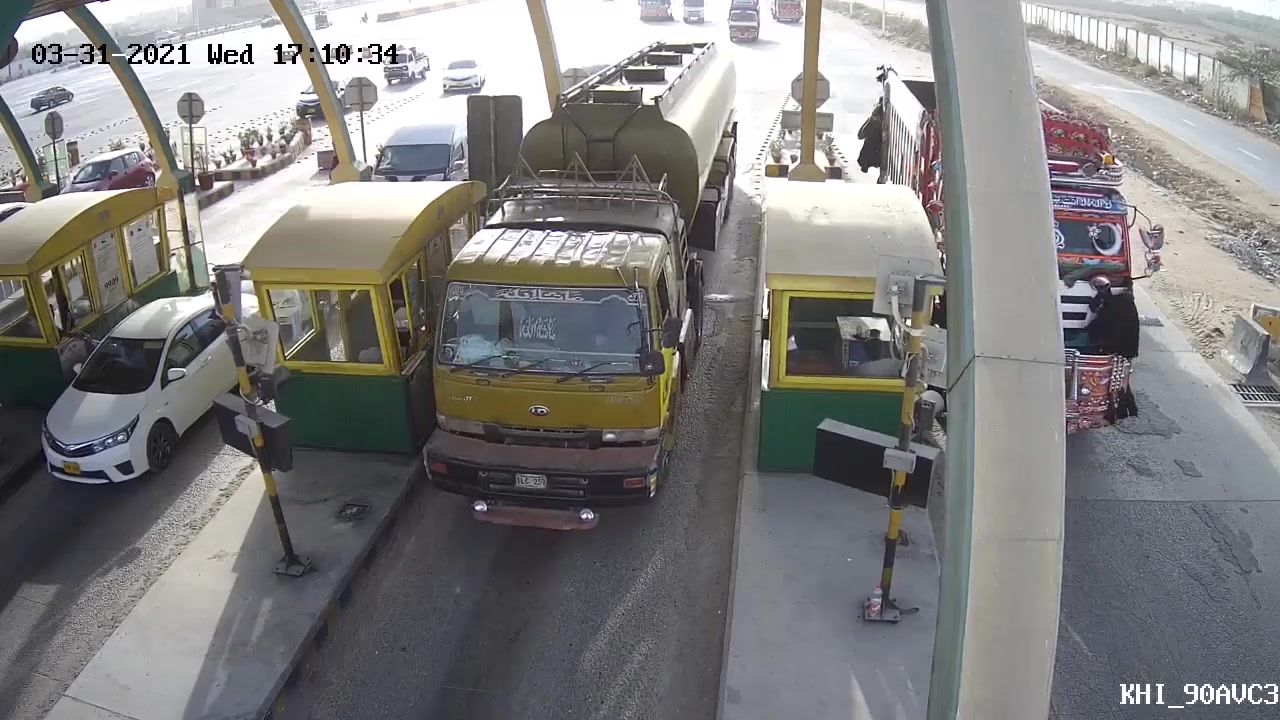F6: (406, 28, 755, 542)
